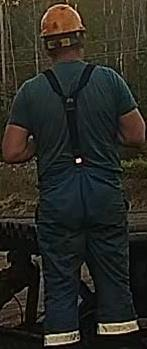helmet: (40, 5, 87, 43)
